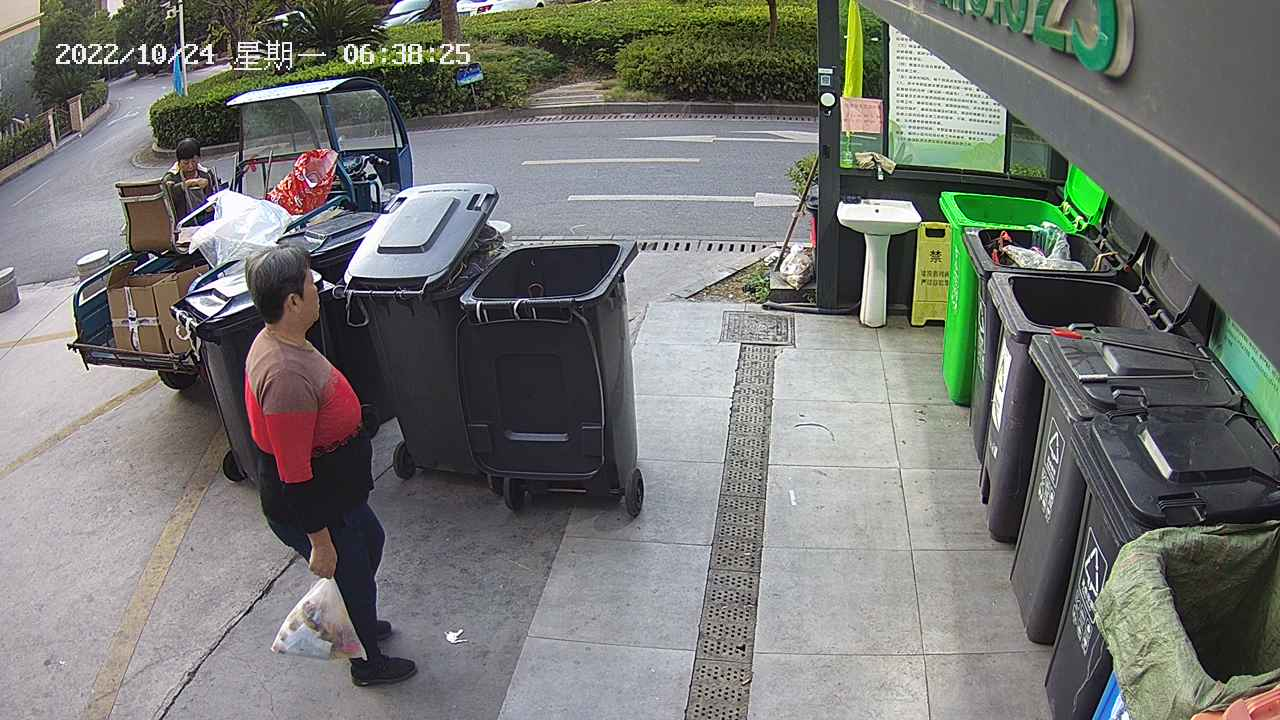garbage-bag: (265, 573, 371, 667), (778, 238, 815, 294)
person: (236, 242, 423, 693), (148, 132, 225, 243)
